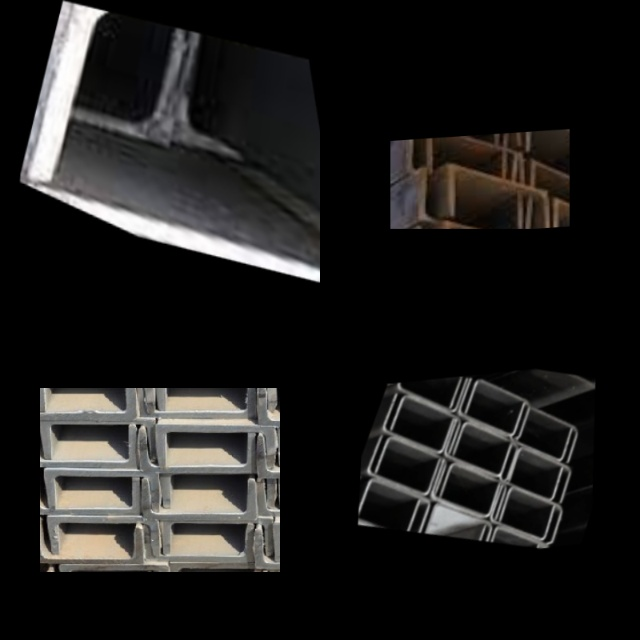Shveller: (34, 2, 320, 289), (19, 148, 320, 289), (450, 161, 547, 229), (420, 166, 520, 229), (362, 428, 446, 502), (377, 387, 459, 460), (370, 430, 453, 502), (384, 389, 468, 460), (426, 453, 505, 524), (434, 456, 513, 527), (439, 413, 516, 483), (459, 374, 536, 444), (446, 417, 524, 486), (357, 472, 436, 540), (453, 373, 530, 442), (494, 480, 568, 550), (503, 442, 577, 511), (486, 479, 560, 547), (495, 438, 568, 506), (512, 400, 584, 468), (357, 469, 426, 538), (505, 403, 576, 466), (406, 136, 505, 181), (49, 472, 157, 511), (142, 433, 254, 470), (45, 421, 154, 458), (40, 425, 135, 467), (146, 480, 253, 517), (159, 428, 272, 463), (51, 519, 158, 555), (425, 497, 497, 549), (392, 375, 472, 419), (40, 477, 137, 512), (40, 527, 142, 560), (145, 528, 252, 559), (139, 388, 253, 417), (165, 476, 272, 506), (164, 521, 271, 551), (386, 376, 467, 415), (40, 388, 133, 418), (40, 388, 152, 410), (160, 388, 274, 408), (526, 198, 570, 229), (446, 218, 546, 229), (63, 565, 169, 572), (261, 437, 280, 475), (260, 532, 280, 567), (176, 565, 275, 572), (261, 388, 280, 422)
